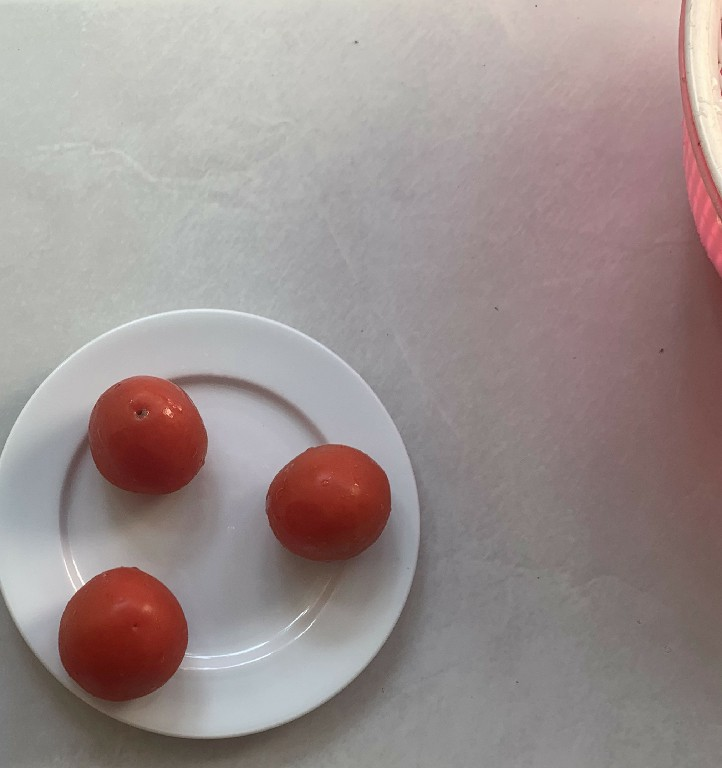OK: (55, 558, 188, 704), (260, 436, 392, 569), (84, 370, 214, 505)
